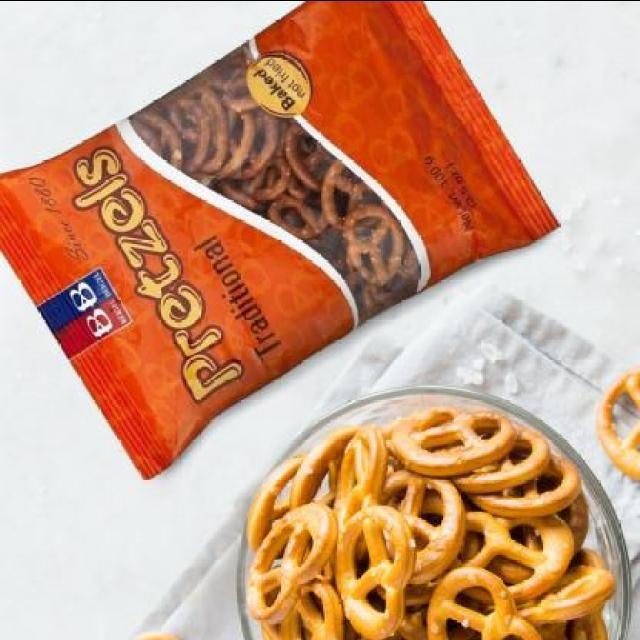Salatini: (0, 0, 562, 478)
Salatini packaged: (243, 403, 617, 639)
